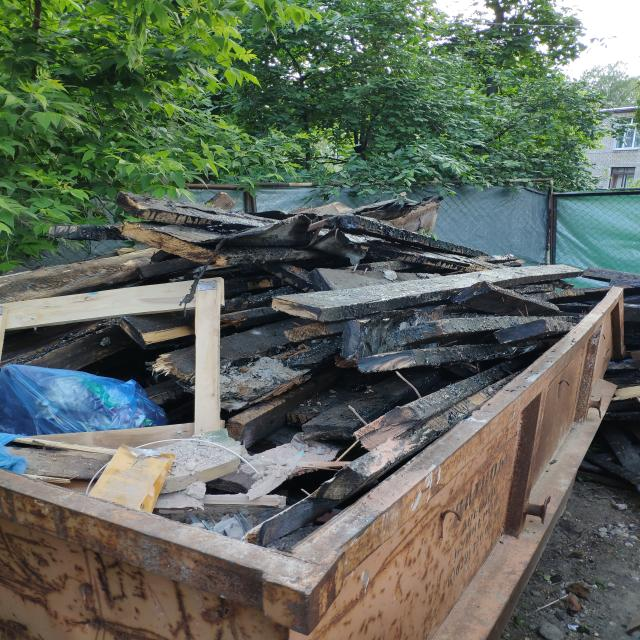entulho: (105, 194, 491, 316), (0, 278, 229, 462), (354, 276, 627, 373), (159, 316, 349, 441), (242, 444, 384, 554), (356, 366, 502, 450), (84, 450, 178, 510)
